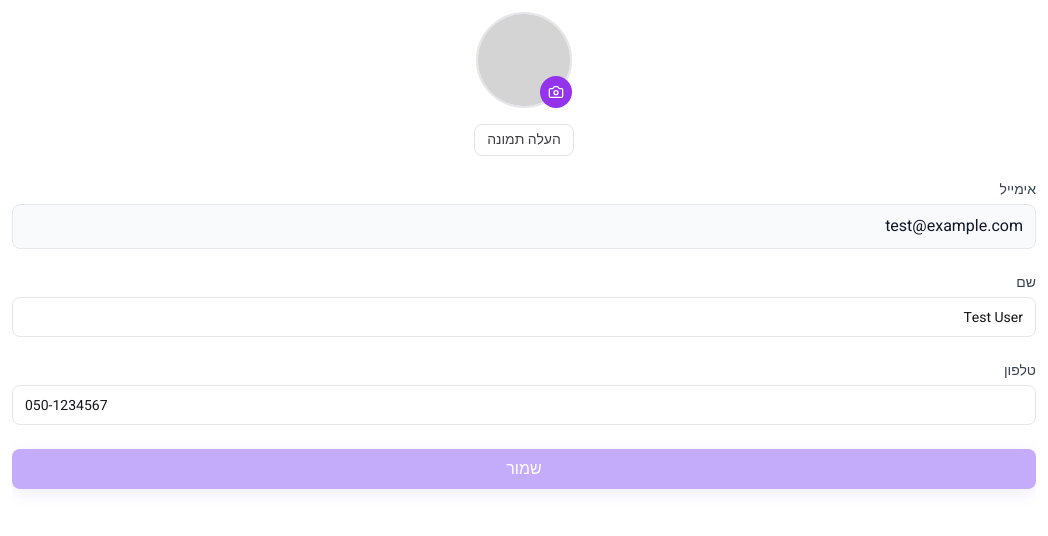
Test: ProfileForm › Form Validation › shows error for name less than 2 characters
Replace the text in the field labelled "שם" with "A" at (524, 317), box [12, 297, 1036, 337]
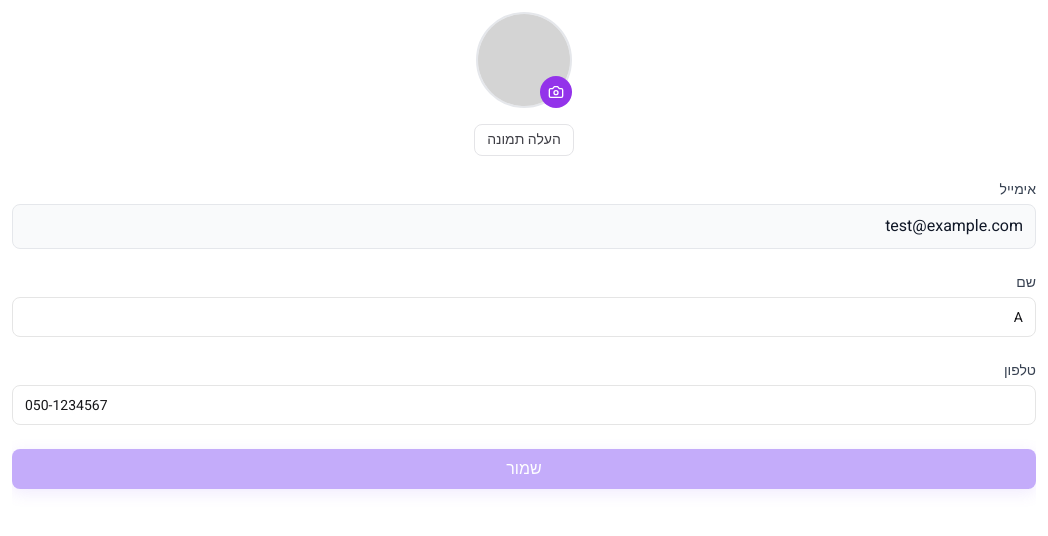
Leave the field labelled "שם", box [12, 297, 1036, 337]
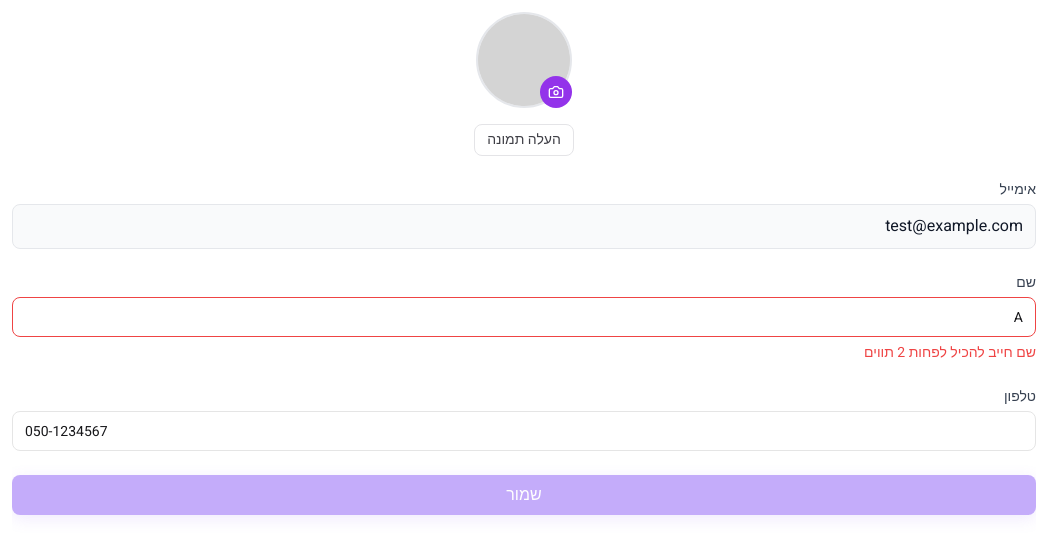
Now the text "שם חייב להכיל לפחות 2 תווים" is shown, box [864, 342, 1036, 363]
